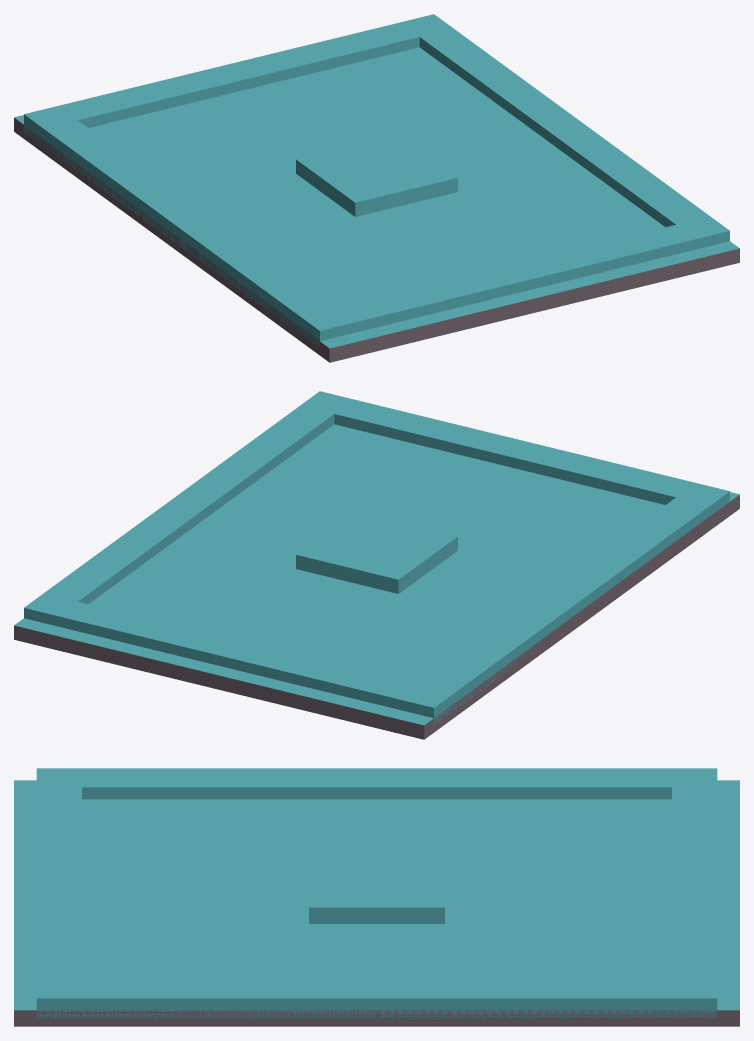
The model's file is prayer_mat.glb.
3 views of the same model, one above another, from view 1: azimuth 30°, elevation 25°; view 2: azimuth 150°, elevation 25°; view 3: azimuth 270°, elevation 25° (orthographic). The views are drawn at different scales.
Parts seen in each view (by area): view 1: prayer_mat; view 2: prayer_mat; view 3: prayer_mat.
Part boxes in pixels (<box>): prayer_mat: <box>14,14,739,362</box>; prayer_mat: <box>14,391,739,739</box>; prayer_mat: <box>14,768,739,1026</box>.
Size of the model in its own units: 0.6 by 0.04 by 0.8.
